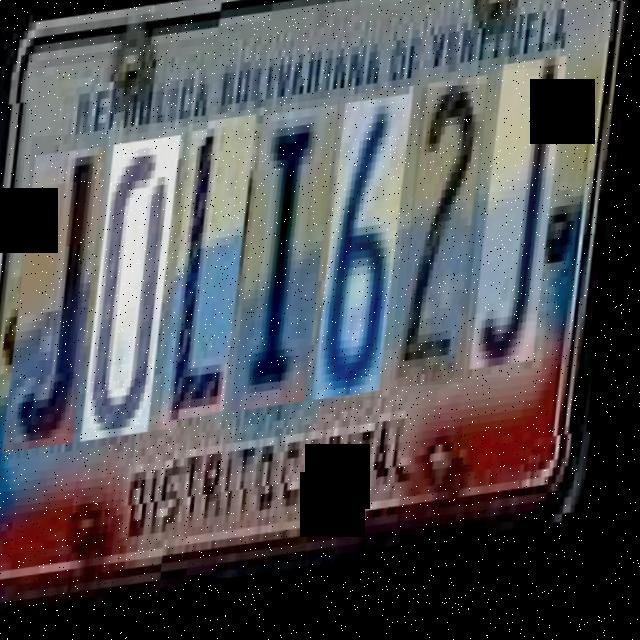0: (91, 123, 184, 431)
2: (402, 91, 489, 396)
6: (321, 98, 415, 405)
I: (240, 107, 340, 414)
J: (13, 132, 110, 438), (477, 74, 568, 387)
L: (168, 116, 259, 421)
